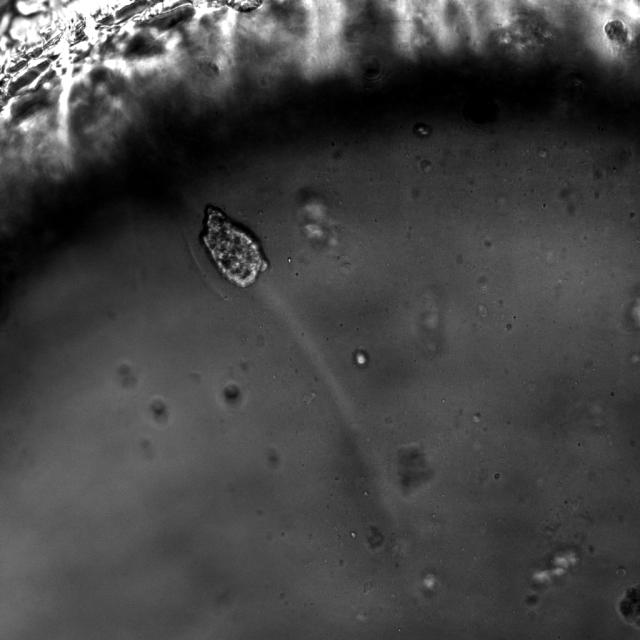organoid: (202, 205, 267, 287)
